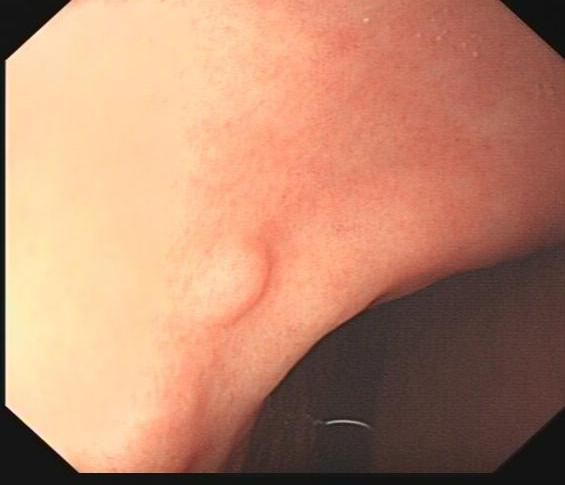Polyp: (184, 231, 277, 332)
